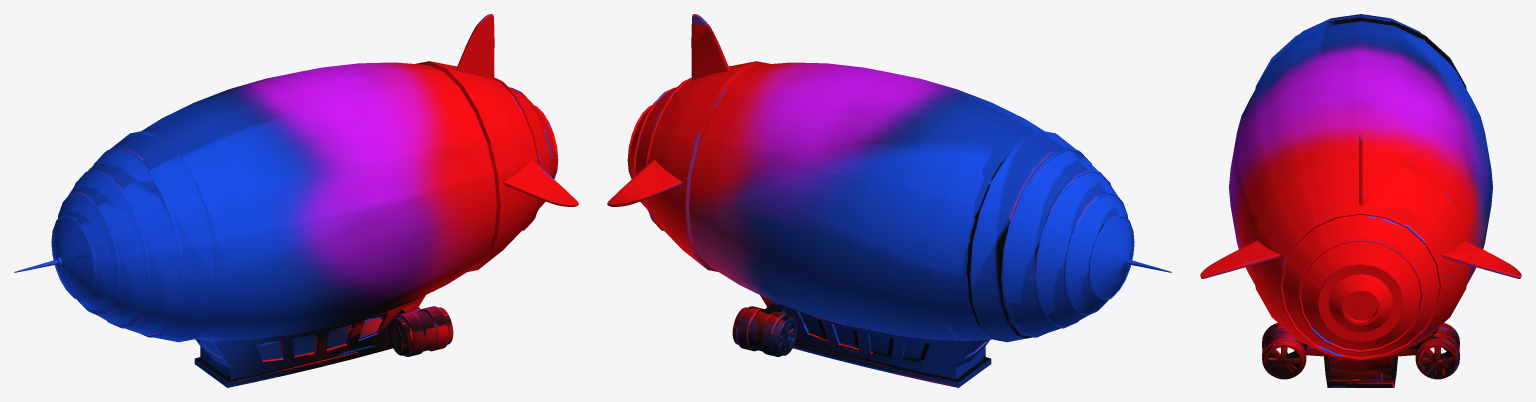
Rendered from particle1.glb.
The picture shows the model from 3 angles, left to right: view 1: azimuth 30°, elevation 25°; view 2: azimuth 150°, elevation 25°; view 3: azimuth 270°, elevation 25°; orthographic projection.
Parts seen in each view (by area): view 1: objZeppelin.003; view 2: objZeppelin.003; view 3: objZeppelin.003.
Boxes of the visible parts, x1,y1,x2,y2 form: objZeppelin.003: [14, 14, 578, 387]; objZeppelin.003: [607, 14, 1171, 387]; objZeppelin.003: [1200, 14, 1521, 387].
Bounding box in the file's own units: 8.15 × 4.29 × 4.19.
1 material, 1 textured.
